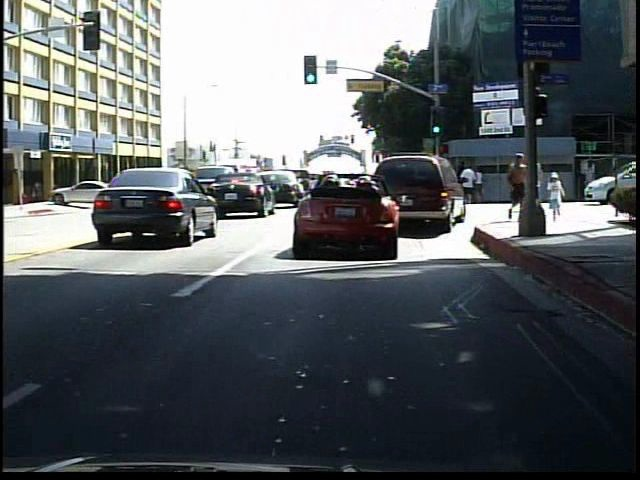person: (501, 149, 528, 226), (543, 171, 568, 223), (122, 173, 141, 205)
